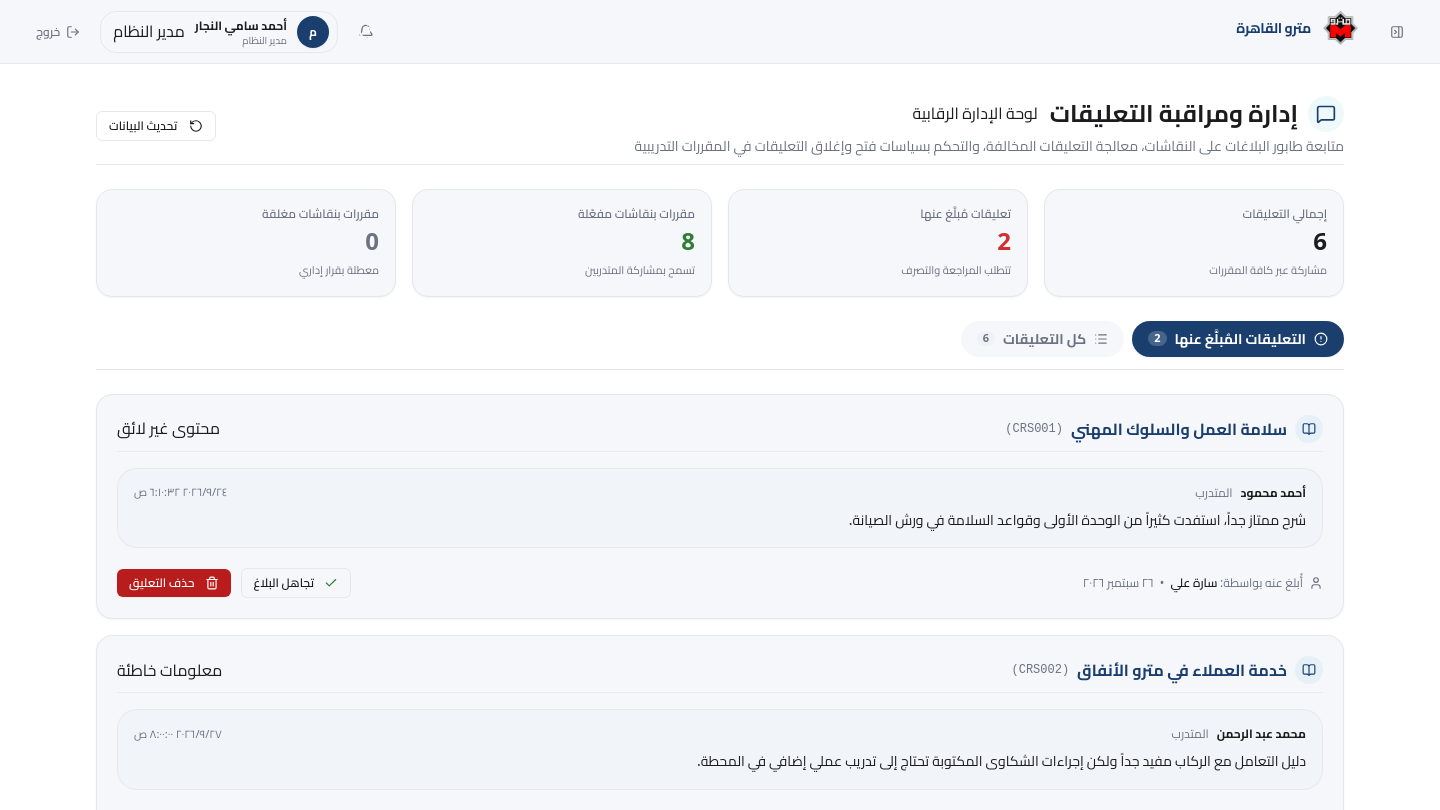
Increment 11 — Phase 5B: Administrative Comment Moderation UI & Workflows › 3. Tab 1: Reported Comments Queue › cancels deletion when clicking cancel in confirmation dialog
Click the button with test id "delete-comment-btn-CMT001".
click(174, 583)  # box [117, 569, 230, 597]
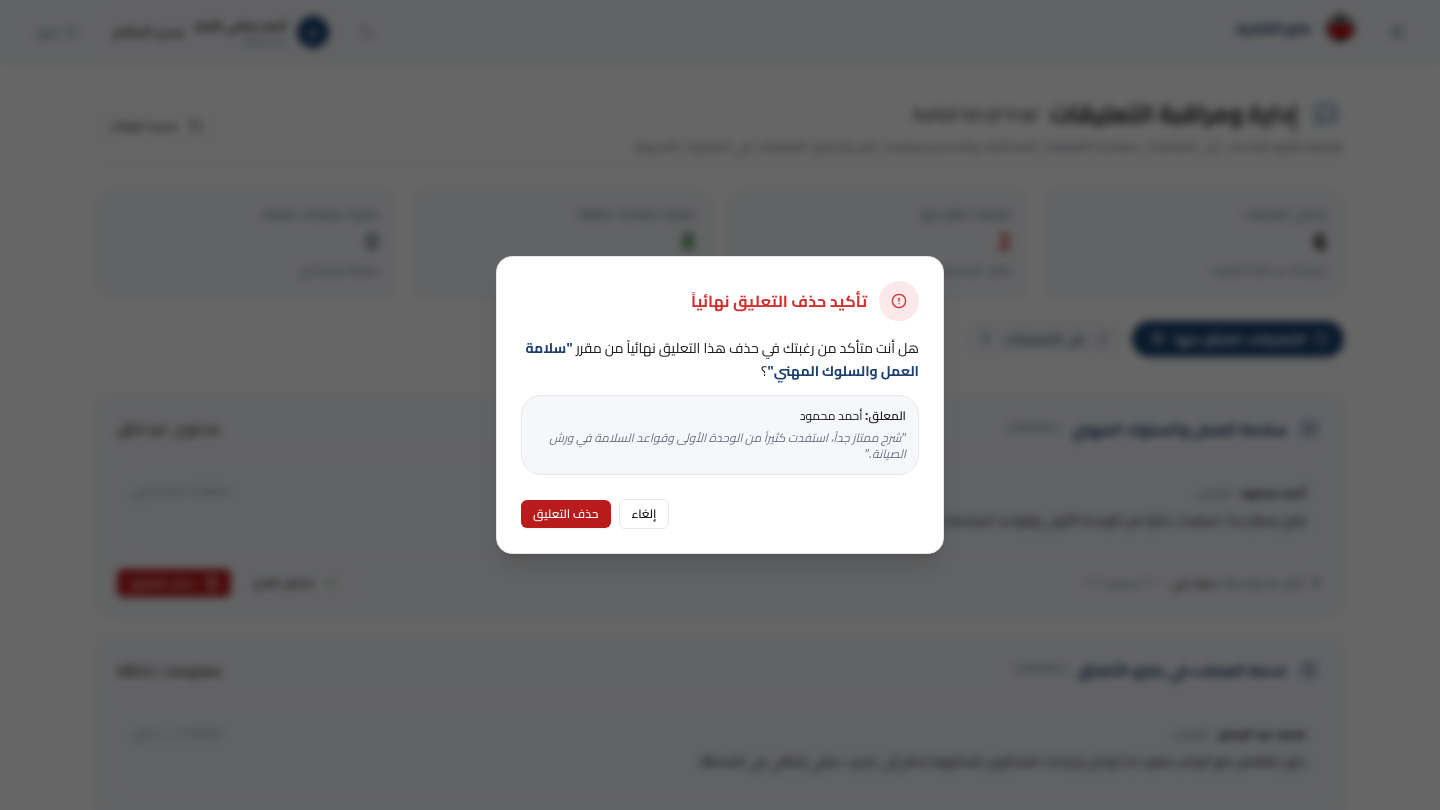
Result: the dialog with test id "confirm-delete-comment-dialog" is shown
Click the button with test id "cancel-delete-action-btn".
click(644, 514)  # box [618, 499, 669, 529]
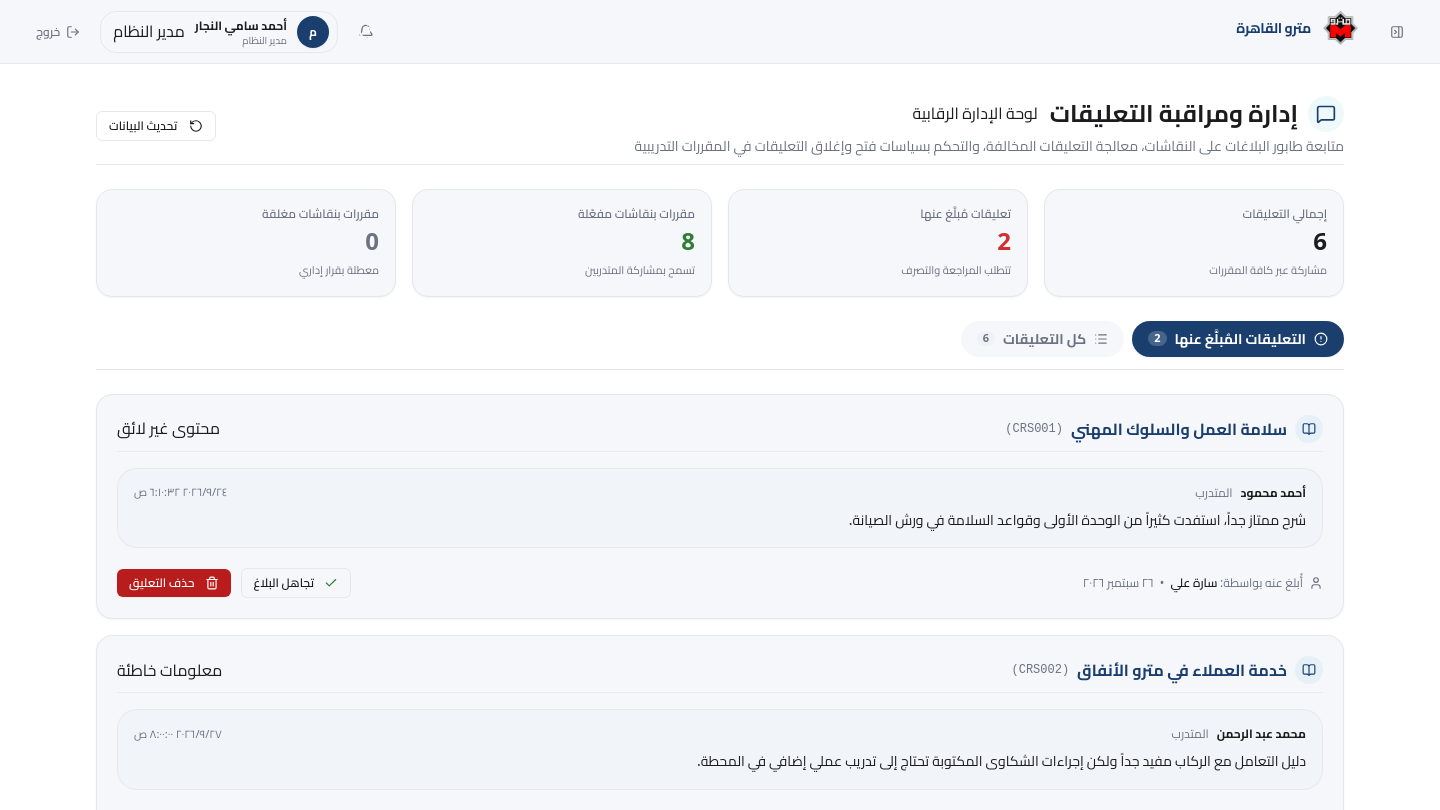
Expected: the element with test id "reported-comment-card-CMT001" is shown, [96, 394, 1344, 619]
Result: the dialog with test id "confirm-delete-comment-dialog" is gone
